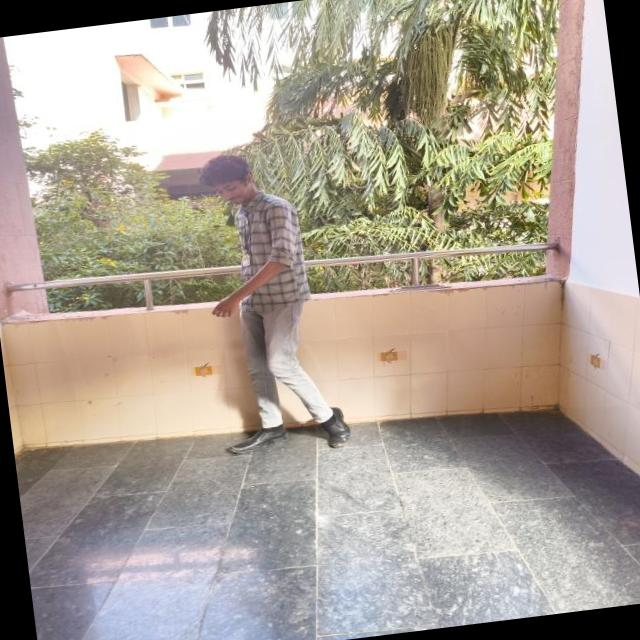id_card: (230, 198, 259, 272)
